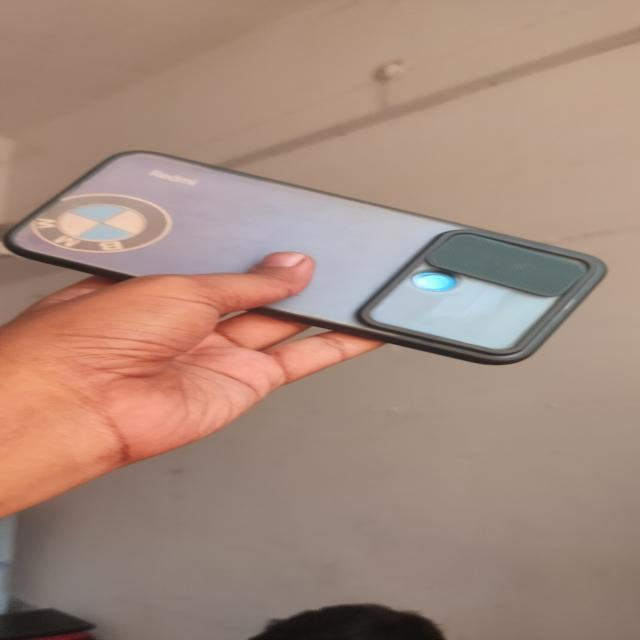Phone: (0, 146, 614, 368)
